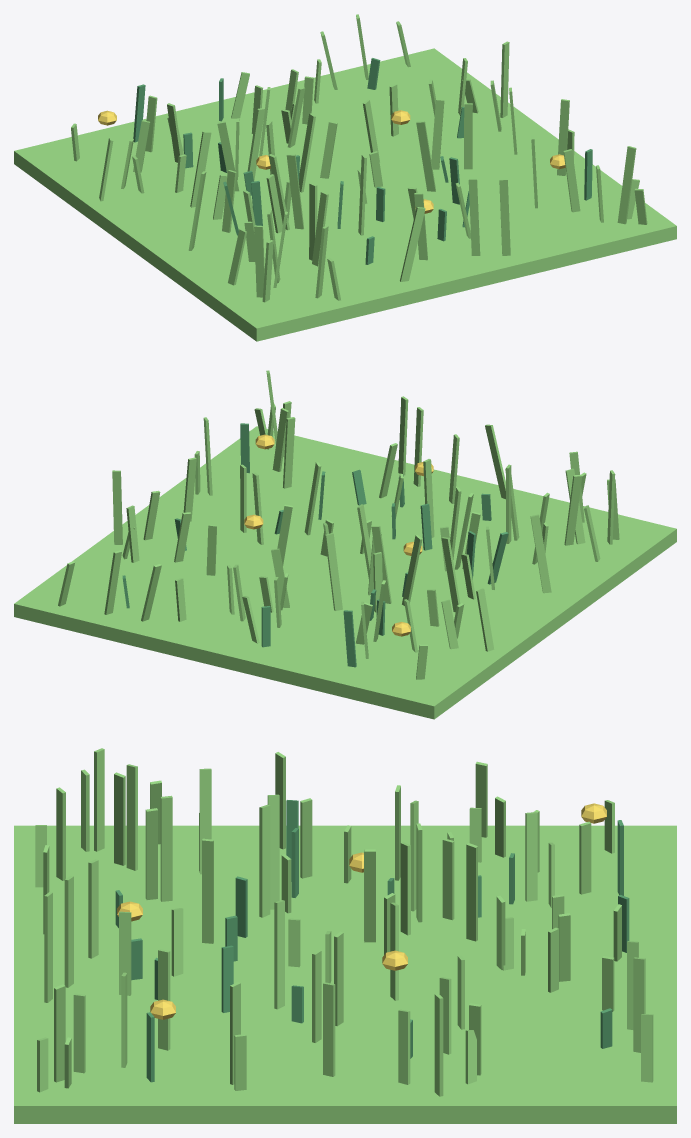
Rendered from lawn-mowing-simulator-kit-lawn-tile-2m-uncut-e285ae12__27387.glb.
3 renders of one model, top to bottom at view 1: azimuth 30°, elevation 25°; view 2: azimuth 150°, elevation 25°; view 3: azimuth 270°, elevation 25°, orthographic. The views are drawn at different scales.
Parts seen in each view (by area): view 1: lawn-tile-2m-uncut; view 2: lawn-tile-2m-uncut; view 3: lawn-tile-2m-uncut.
Part boxes in pixels (left/top/right/bottom): lawn-tile-2m-uncut: left=14, top=14, right=676, bottom=341; lawn-tile-2m-uncut: left=14, top=370, right=676, bottom=719; lawn-tile-2m-uncut: left=14, top=748, right=676, bottom=1123.
Bounding box in the file's own units: 2 × 0.4109 × 2.
